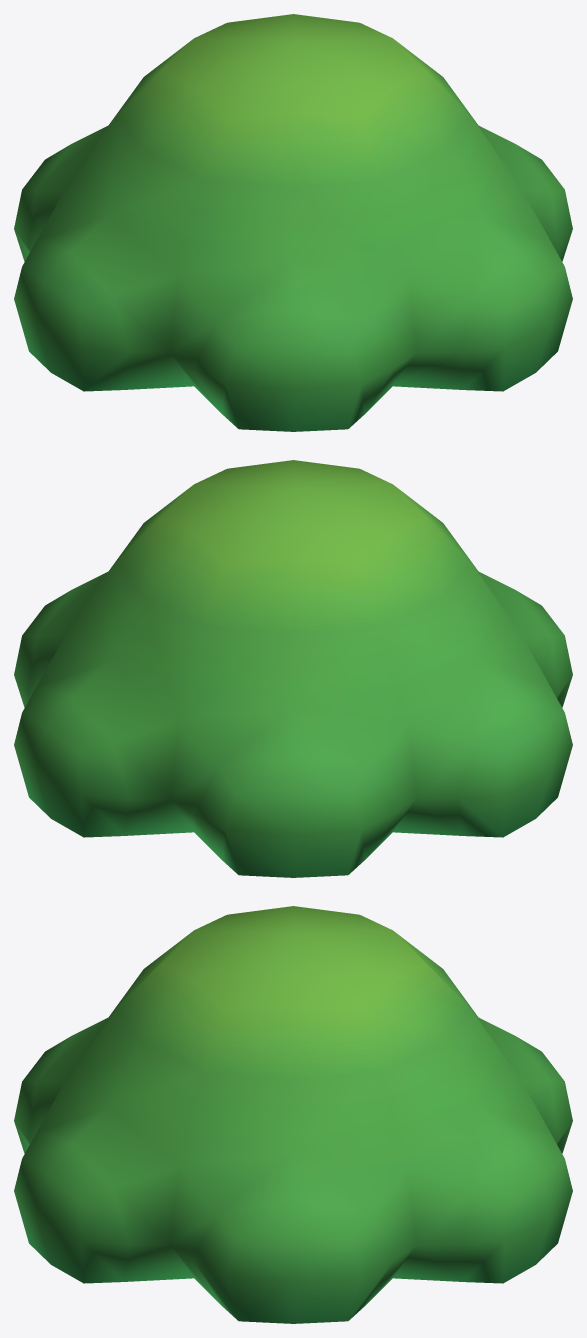
Rendered from prop_park_bush_large.glb.
The picture shows the model from 3 angles, top to bottom: view 1: azimuth 30°, elevation 25°; view 2: azimuth 150°, elevation 25°; view 3: azimuth 270°, elevation 25°; orthographic projection.
Visible parts, largest first — view 1: bush_large; view 2: bush_large; view 3: bush_large.
Boxes of the visible parts, x1,y1,x2,y2 form: bush_large: [14, 14, 572, 431]; bush_large: [14, 460, 572, 877]; bush_large: [14, 906, 572, 1323].
Size of the model in its own units: 1.5 by 0.7592 by 1.41.
Materials: 1 (1 with a texture image).
